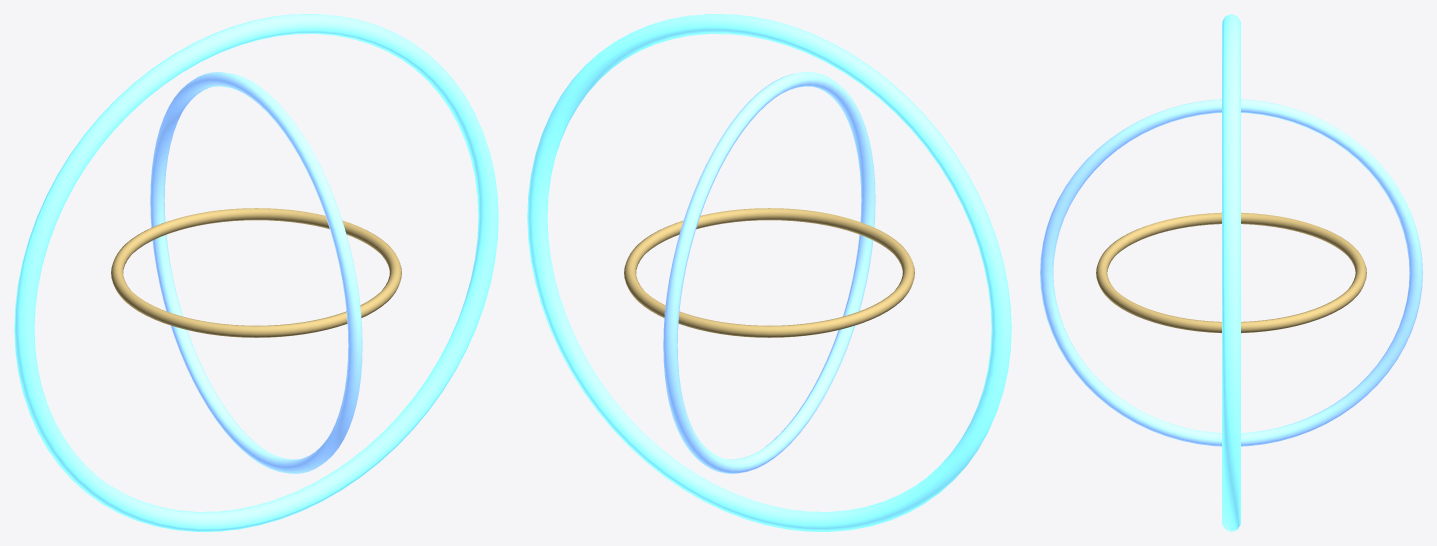
The model's file is L84_12_InertialReferenceTargetHologram_Fitted.fbx.
3 renders of one model, left to right at view 1: azimuth 30°, elevation 25°; view 2: azimuth 150°, elevation 25°; view 3: azimuth 270°, elevation 25°, orthographic. The views are drawn at different scales.
Parts seen in each view (by area): view 1: L84_InertialReferenceTargetHologram_Static__tint38CCFC, L84_InertialReferenceTargetHologram_Static__tint3D78F5, L84_InertialReferenceTargetHologram_Static__tintF2B547; view 2: L84_InertialReferenceTargetHologram_Static__tint38CCFC, L84_InertialReferenceTargetHologram_Static__tint3D78F5, L84_InertialReferenceTargetHologram_Static__tintF2B547; view 3: L84_InertialReferenceTargetHologram_Static__tint3D78F5, L84_InertialReferenceTargetHologram_Static__tint38CCFC, L84_InertialReferenceTargetHologram_Static__tintF2B547.
Part boxes in pixels (x1=…): L84_InertialReferenceTargetHologram_Static__tint38CCFC: x1=14, y1=14, x2=498, y2=531; L84_InertialReferenceTargetHologram_Static__tint3D78F5: x1=150, y1=72, x2=362, y2=473; L84_InertialReferenceTargetHologram_Static__tintF2B547: x1=111, y1=208, x2=401, y2=337; L84_InertialReferenceTargetHologram_Static__tint38CCFC: x1=527, y1=14, x2=1011, y2=531; L84_InertialReferenceTargetHologram_Static__tint3D78F5: x1=663, y1=72, x2=875, y2=473; L84_InertialReferenceTargetHologram_Static__tintF2B547: x1=624, y1=208, x2=914, y2=337; L84_InertialReferenceTargetHologram_Static__tint3D78F5: x1=1040, y1=99, x2=1422, y2=446; L84_InertialReferenceTargetHologram_Static__tint38CCFC: x1=1222, y1=14, x2=1240, y2=531; L84_InertialReferenceTargetHologram_Static__tintF2B547: x1=1096, y1=212, x2=1366, y2=333.
Size of the model in its own units: 12.96 by 12.96 by 9.58.
